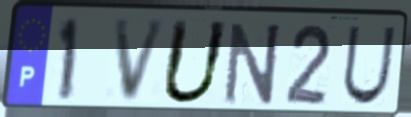1: (53, 16, 80, 105)
2: (284, 21, 334, 108)
N: (221, 20, 284, 107)
U: (157, 17, 233, 108), (339, 24, 398, 108)
V: (112, 17, 170, 106)
